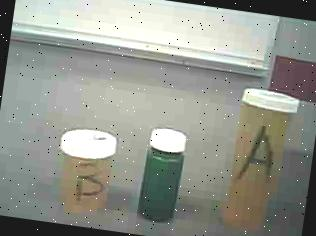Bottle A: (217, 78, 303, 236)
Bottle B: (39, 123, 122, 222)
Bottle C: (130, 123, 195, 228)
